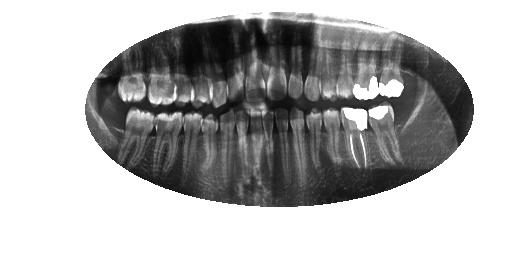Cavity: (222, 23, 247, 105), (288, 106, 306, 181), (201, 112, 219, 172)
Fillings: (371, 103, 400, 166), (377, 40, 405, 97), (353, 46, 379, 100)
Implant: (340, 107, 370, 173)
